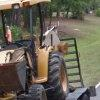Tractor: (5, 1, 71, 100)
